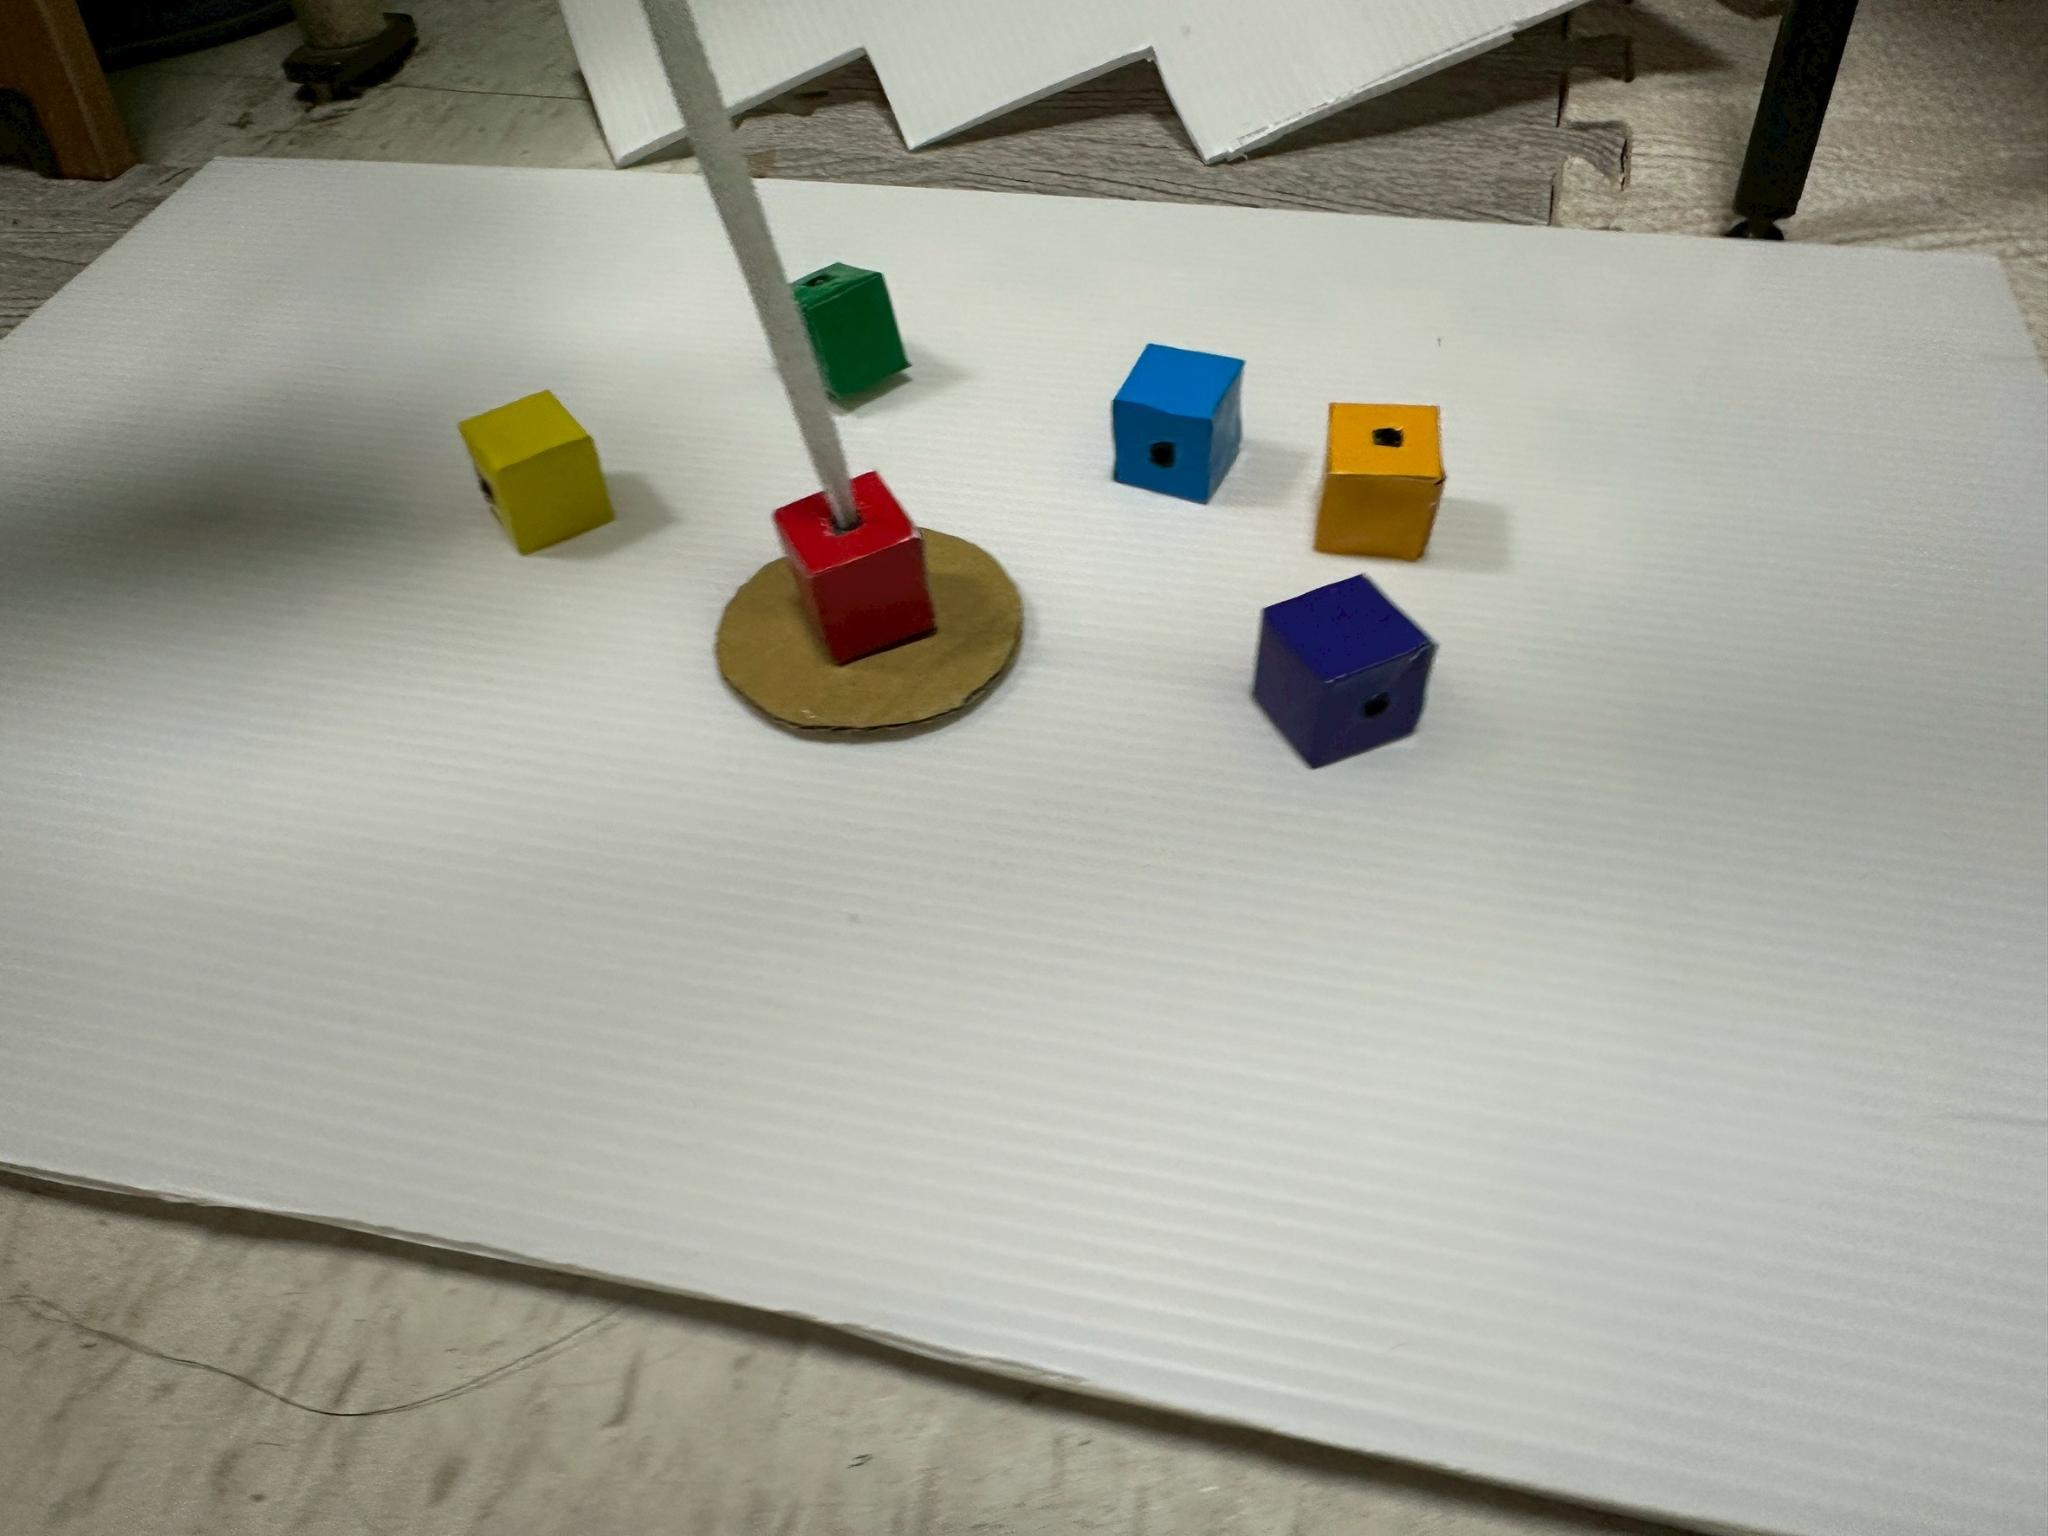cube: (1253, 576, 1435, 768), (774, 473, 935, 665), (460, 392, 611, 555), (1113, 345, 1243, 503), (1316, 403, 1445, 561), (793, 263, 910, 397)
